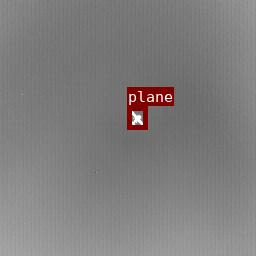plane: (127, 106, 147, 129)
